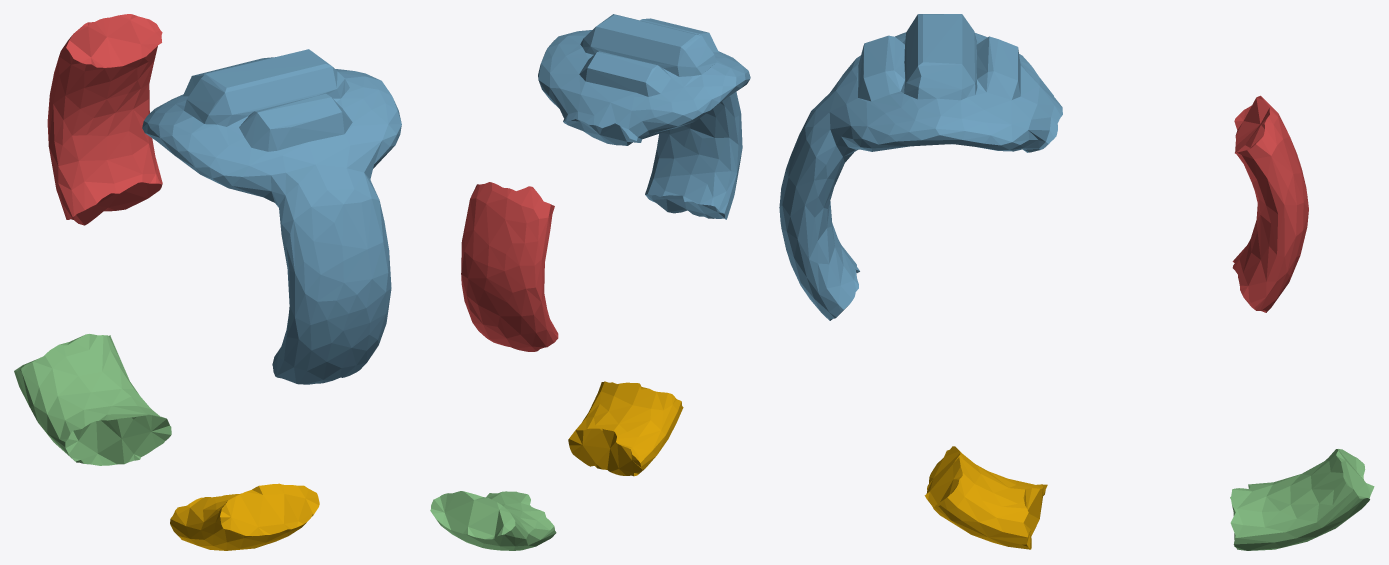
Rendered from fractured_19_4pcs_transformed.glb.
3 views of the same model, side by side, from view 1: azimuth 30°, elevation 25°; view 2: azimuth 150°, elevation 25°; view 3: azimuth 270°, elevation 25° (orthographic). The views are drawn at different scales.
Parts seen in each view (by area): view 1: piece_2.obj, piece_1.obj, piece_3.obj, piece_0.obj; view 2: piece_2.obj, piece_1.obj, piece_0.obj, piece_3.obj; view 3: piece_2.obj, piece_1.obj, piece_3.obj, piece_0.obj.
Part boxes in pixels (x1=…): piece_2.obj: x1=142, y1=49, x2=401, y2=384; piece_1.obj: x1=47, y1=14, x2=162, y2=225; piece_3.obj: x1=14, y1=334, x2=171, y2=465; piece_0.obj: x1=170, y1=483, x2=319, y2=550; piece_2.obj: x1=538, y1=14, x2=750, y2=219; piece_1.obj: x1=461, y1=182, x2=558, y2=351; piece_0.obj: x1=568, y1=381, x2=683, y2=476; piece_3.obj: x1=430, y1=491, x2=556, y2=550; piece_2.obj: x1=779, y1=14, x2=1062, y2=320; piece_1.obj: x1=1232, y1=95, x2=1308, y2=312; piece_3.obj: x1=1230, y1=449, x2=1374, y2=550; piece_0.obj: x1=924, y1=446, x2=1047, y2=549.
Bounding box in the file's own units: 0.7357 × 1.6 × 1.73.
